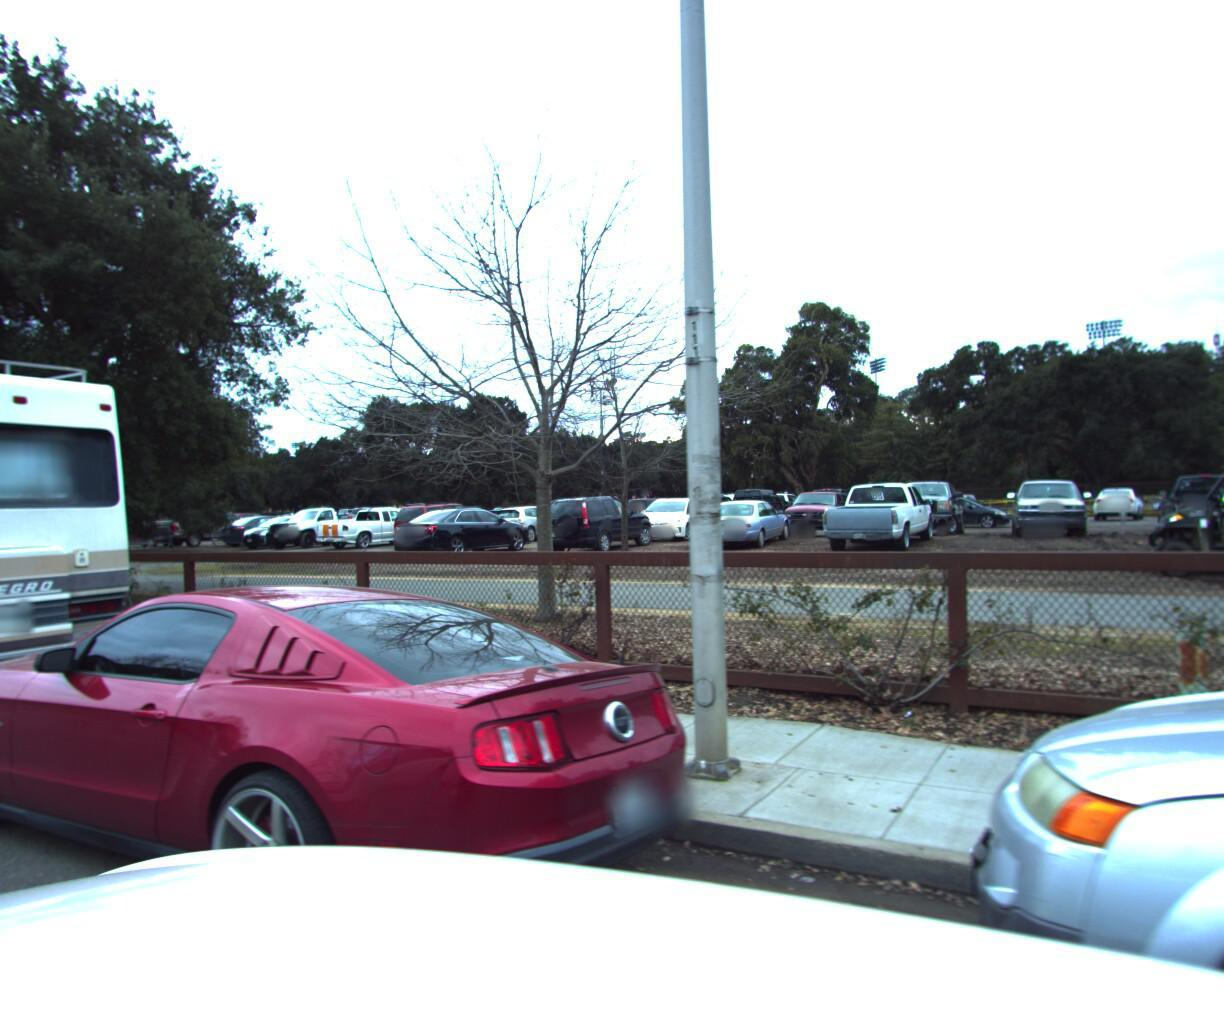car: (0, 559, 742, 1024)
other_vehicle: (0, 284, 174, 801)
